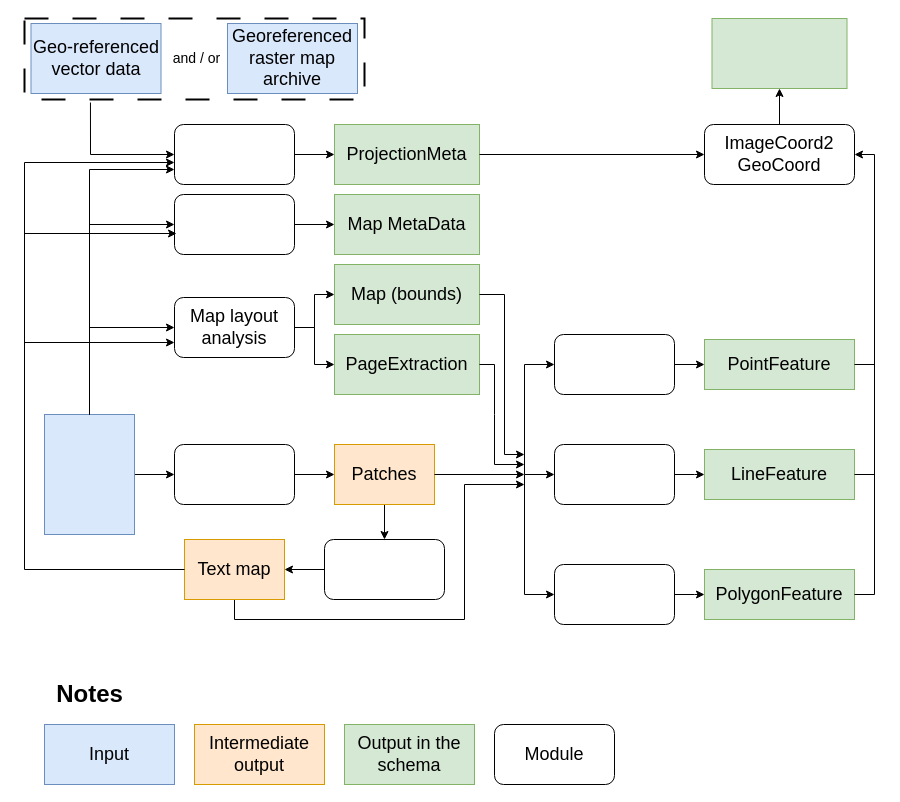
This 900x802 diagram has some shape labels left out. Each missing label, with the centre of its shape:
Geo-reference: (234,154)
Image cropping: (234,474)
Line extraction: (614,474)
Map: (89,474)
Map extraction output: (779,53)
MetaData extraction: (234,224)
Point extraction: (614,364)
Polygon extraction: (614,594)
Text spotting: (384,569)
